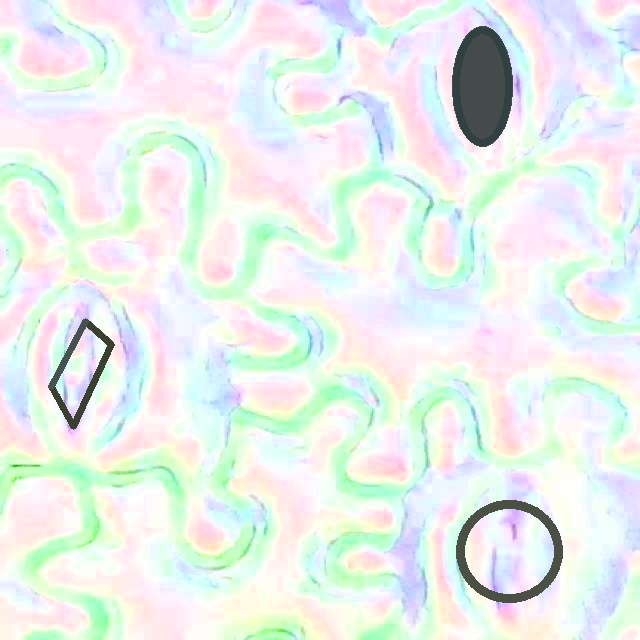open: (456, 500, 563, 602), (451, 25, 512, 146), (48, 318, 114, 429)
